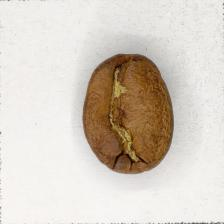NG: (97, 65, 167, 157)
